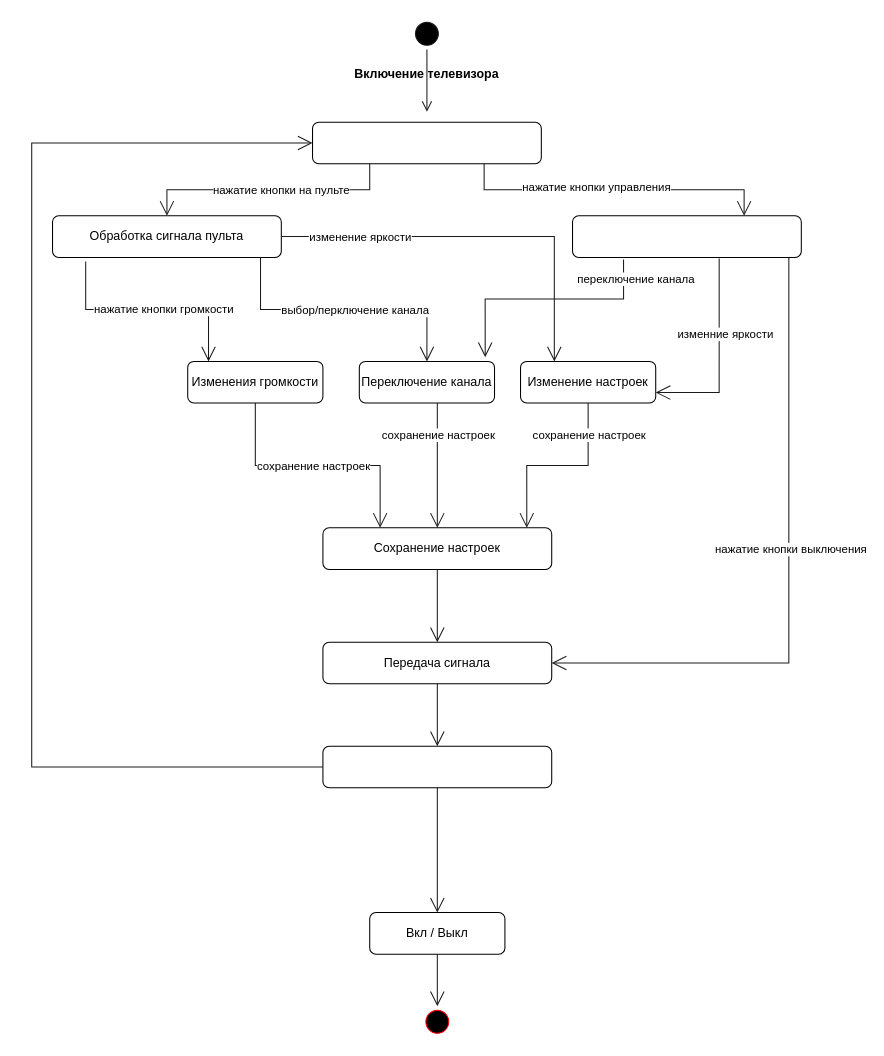
The diagram is 884 pixels wide and 1056 high, and some of its shapes have lost their labels. The shapes that lost their labels are listed below. From the top down, each one's centre as x and y in pixels, then its label:
At [426,142]: "Ожидание действия".
At [686,236]: "Обработка сигнала с кнопок управления".
At [437,766]: "Обработка сигнала".
